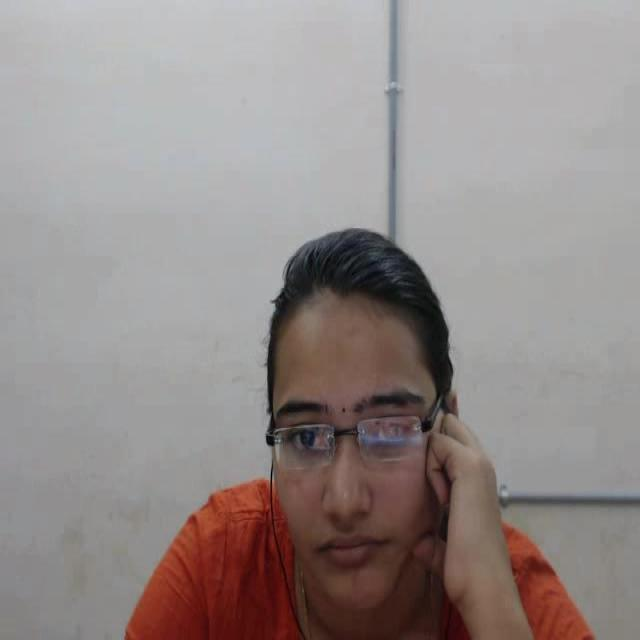Bored: (241, 200, 487, 640)
